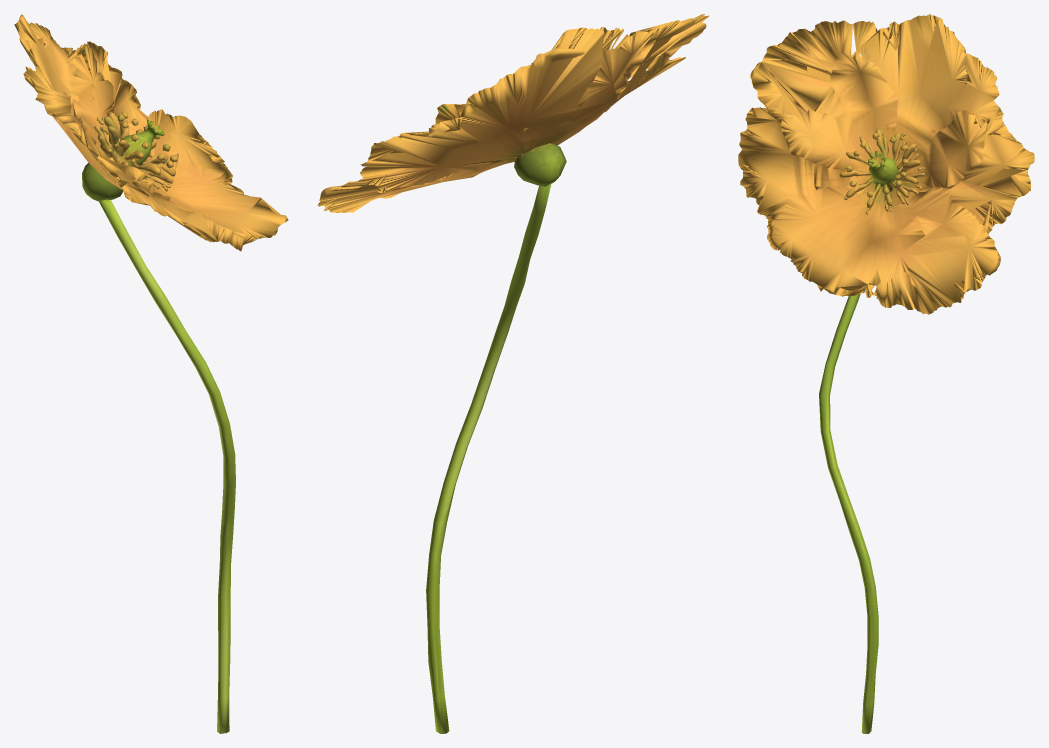
The model's file is flower-03.glb.
3 renders of one model, left to right at view 1: azimuth 30°, elevation 25°; view 2: azimuth 150°, elevation 25°; view 3: azimuth 270°, elevation 25°, orthographic. The views are drawn at different scales.
Visible parts, largest first — view 1: tripo_node_ccbf844c-fdf4-4aa8-9dbe-cb7e4e2f42ac; view 2: tripo_node_ccbf844c-fdf4-4aa8-9dbe-cb7e4e2f42ac; view 3: tripo_node_ccbf844c-fdf4-4aa8-9dbe-cb7e4e2f42ac.
Part boxes in pixels (bbox=[...]): tripo_node_ccbf844c-fdf4-4aa8-9dbe-cb7e4e2f42ac: bbox=[14, 14, 288, 733]; tripo_node_ccbf844c-fdf4-4aa8-9dbe-cb7e4e2f42ac: bbox=[317, 14, 709, 733]; tripo_node_ccbf844c-fdf4-4aa8-9dbe-cb7e4e2f42ac: bbox=[738, 14, 1034, 733].
Size of the model in its own units: 0.3835 by 0.998 by 0.416.
1 material, 1 textured.
